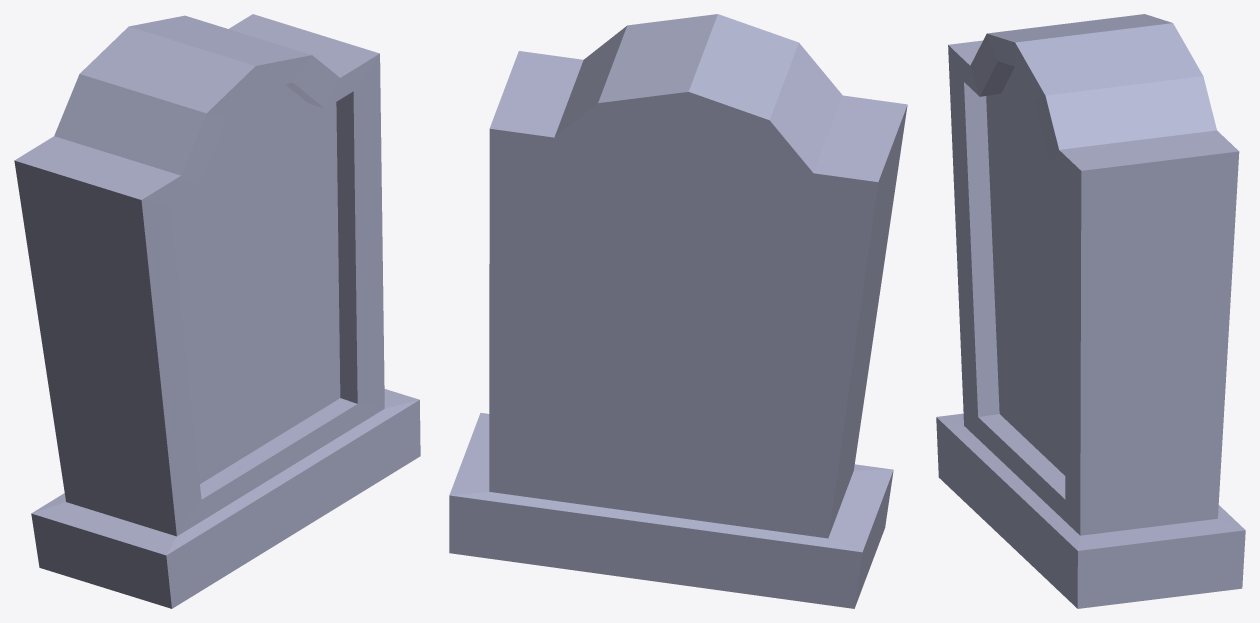
Rendered from tombstone_1.glb.
The picture shows the model from 3 angles, left to right: view 1: azimuth 30°, elevation 25°; view 2: azimuth 150°, elevation 25°; view 3: azimuth 270°, elevation 25°; orthographic projection. The views are drawn at different scales.
Visible parts, largest first — view 1: Tombstone; view 2: Tombstone; view 3: Tombstone.
Boxes of the visible parts, x1,y1,x2,y2 form: Tombstone: [14, 14, 420, 608]; Tombstone: [449, 14, 907, 608]; Tombstone: [936, 14, 1245, 608].
Size of the model in its own units: 1.88 by 2.25 by 1.26.
